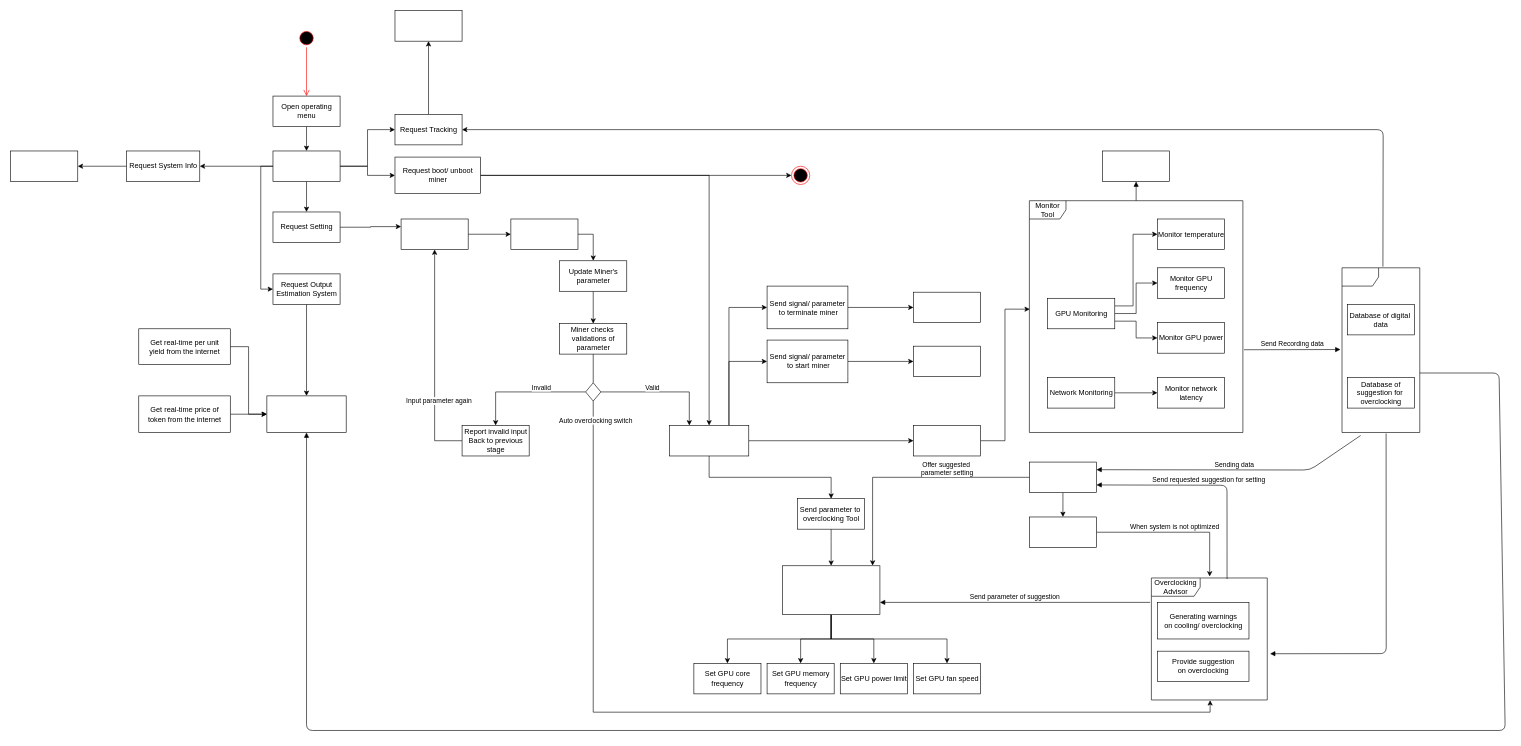
This 1521x746 diagram has some shape labels left out. Each missing label, with the box of its shape:
Auto overclocking Tool: (1029, 461, 1096, 493)
Calculate real-time daily output in dollars: (266, 395, 346, 432)
Checking GPU state: (1029, 516, 1096, 547)
Command/ Parameter for mining: (669, 425, 749, 456)
Database System: (1341, 267, 1420, 432)
Display historical data: (394, 10, 462, 41)
GPU start working: (913, 346, 981, 377)
GPU stop working: (913, 292, 981, 323)
Input parameter of miner setting: (400, 218, 468, 249)
Overlocking Tool: (782, 565, 880, 615)
Request: (272, 150, 340, 181)
Send parameter to Miner updated request: (510, 218, 578, 249)
Send request to Monitoring Tool: (913, 425, 981, 456)
Show real-time data: (1102, 150, 1170, 181)
Show System info: (10, 150, 78, 181)
